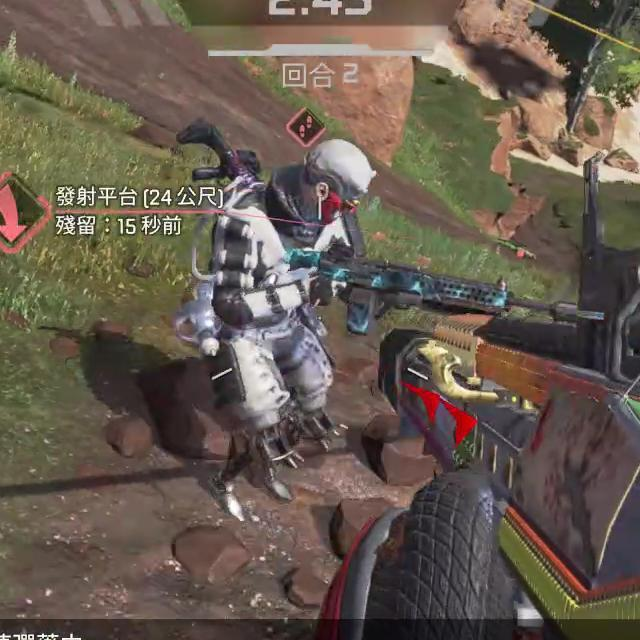avatar: (169, 118, 381, 524)
